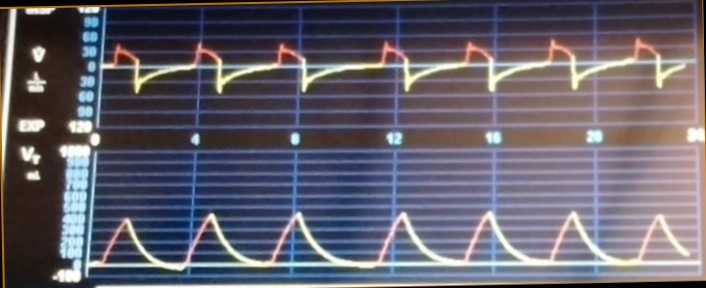Normal Flow: (105, 26, 687, 109)
Normal Volume: (93, 195, 689, 276)
